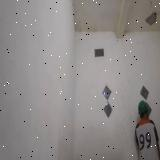Helmet: (138, 100, 148, 114)
